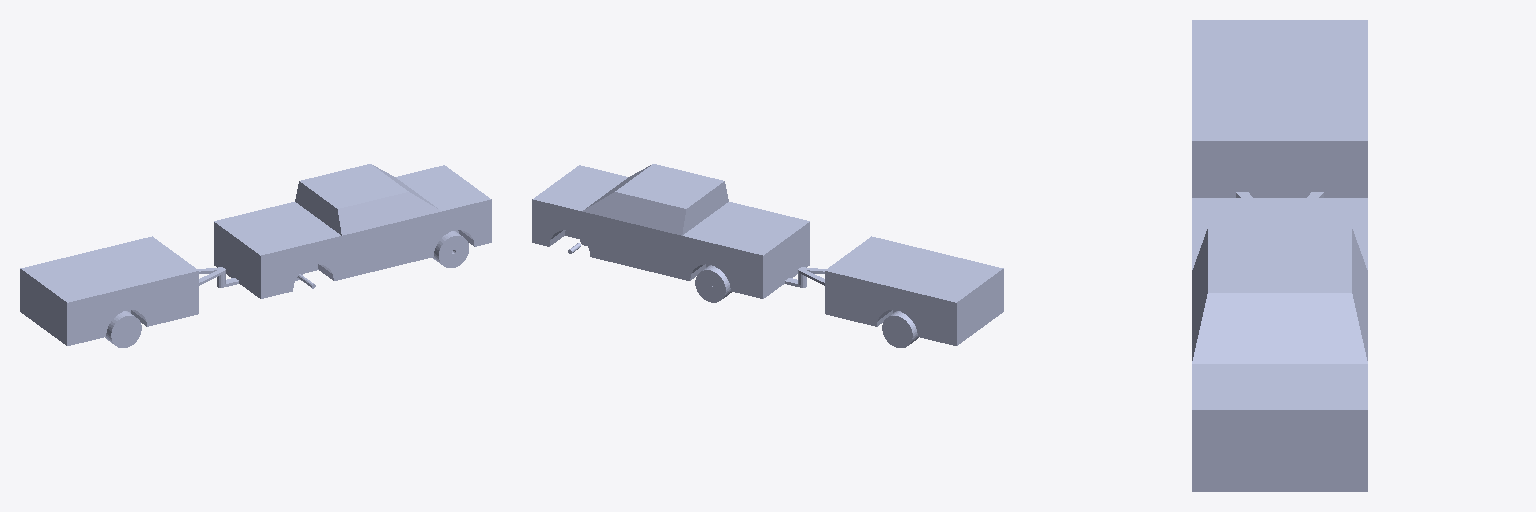
robot.urdf — trailer_description:
<?xml version="1.0" encoding="utf-8"?>
<!-- This URDF was automatically created by SolidWorks to URDF Exporter! Originally created by [author] ([email redacted]) 
     Commit Version: 1.6.0-4-g7f85cfe  Build Version: 1.6.7995.38578
     For more information, please see http://wiki.ros.org/sw_urdf_exporter -->
<robot
  name="trailer_description">
  <link
    name="base_link">
    <inertial>
      <origin
        xyz="0.0151794504413043 -2.6956551943736E-16 0.504333281484515"
        rpy="0 0 0" />
      <mass
        value="5623.96238078164" />
      <inertia
        ixx="1505.2735842584"
        ixy="3.10657795280898E-14"
        ixz="-96.1203292275202"
        iyy="7932.64531285603"
        iyz="-3.10015617296073E-14"
        izz="8447.43080900142" />
    </inertial>
    <visual>
      <origin
        xyz="0 0 0"
        rpy="0 0 0" />
      <geometry>
        <mesh
          filename="package://trailer_description/meshes/base_link.STL" />
      </geometry>
      <material
        name="">
        <color
          rgba="0.792156862745098 0.819607843137255 0.933333333333333 1" />
      </material>
    </visual>
    <collision>
      <origin
        xyz="0 0 0"
        rpy="0 0 0" />
      <geometry>
        <mesh
          filename="package://trailer_description/meshes/base_link.STL" />
      </geometry>
    </collision>
  </link>
  <link
    name="steer_left">
    <inertial>
      <origin
        xyz="0 0 1.11022302462516E-16"
        rpy="0 0 0" />
      <mass
        value="1.48283173249438" />
      <inertia
        ixx="0.0113467519863581"
        ixy="4.92526541296846E-36"
        ixz="0"
        iyy="0.00118626538599551"
        iyz="4.00998451212503E-35"
        izz="0.0113467519863581" />
    </inertial>
    <visual>
      <origin
        xyz="0 0 0"
        rpy="0 0 0" />
      <geometry>
        <mesh
          filename="package://trailer_description/meshes/steer_left.STL" />
      </geometry>
      <material
        name="">
        <color
          rgba="0.792156862745098 0.819607843137255 0.933333333333333 1" />
      </material>
    </visual>
    <collision>
      <origin
        xyz="0 0 0"
        rpy="0 0 0" />
      <geometry>
        <mesh
          filename="package://trailer_description/meshes/steer_left.STL" />
      </geometry>
    </collision>
  </link>
  <joint
    name="steer_left_joint"
    type="revolute">
    <origin
      xyz="1.46 0.6125 0"
      rpy="0 0 0" />
    <parent
      link="base_link" />
    <child
      link="steer_left" />
    <axis
      xyz="0 0 -1" />
    <limit
      lower="-0.6"
      upper="0.6"
      effort="50"
      velocity="31.4" />
  </joint>
  <link
    name="front_left_wheel">
    <inertial>
      <origin
        xyz="0 0 -1.11022302462516E-16"
        rpy="0 0 0" />
      <mass
        value="74.1907633489725" />
      <inertia
        ixx="2.08218966287404"
        ixy="6.07695317678125E-17"
        ixz="-3.14934790723029E-18"
        iyy="3.08830412900736"
        iyz="3.93136225252298E-18"
        izz="2.08218966287404" />
    </inertial>
    <visual>
      <origin
        xyz="0 0 0"
        rpy="0 0 0" />
      <geometry>
        <mesh
          filename="package://trailer_description/meshes/front_left_wheel.STL" />
      </geometry>
      <material
        name="">
        <color
          rgba="0.792156862745098 0.819607843137255 0.933333333333333 1" />
      </material>
    </visual>
    <collision>
      <origin
        xyz="0 0 0"
        rpy="0 0 0" />
      <geometry>
        <mesh
          filename="package://trailer_description/meshes/front_left_wheel.STL" />
      </geometry>
    </collision>
  </link>
  <joint
    name="front_left_wheel_joint"
    type="continuous">
    <origin
      xyz="0 0 0"
      rpy="0 0 0" />
    <parent
      link="steer_left" />
    <child
      link="front_left_wheel" />
    <axis
      xyz="0 1 0" />
    <limit
      lower="0"
      upper="0"
      effort="100"
      velocity="31.4" />
  </joint>
  <link
    name="steer_right">
    <inertial>
      <origin
        xyz="0 0 1.11022302462516E-16"
        rpy="0 0 0" />
      <mass
        value="1.48283173249438" />
      <inertia
        ixx="0.0113467519863581"
        ixy="4.92526541296846E-36"
        ixz="0"
        iyy="0.00118626538599551"
        iyz="4.00998451212503E-35"
        izz="0.0113467519863581" />
    </inertial>
    <visual>
      <origin
        xyz="0 0 0"
        rpy="0 0 0" />
      <geometry>
        <mesh
          filename="package://trailer_description/meshes/steer_right.STL" />
      </geometry>
      <material
        name="">
        <color
          rgba="0.792156862745098 0.819607843137255 0.933333333333333 1" />
      </material>
    </visual>
    <collision>
      <origin
        xyz="0 0 0"
        rpy="0 0 0" />
      <geometry>
        <mesh
          filename="package://trailer_description/meshes/steer_right.STL" />
      </geometry>
    </collision>
  </link>
  <joint
    name="steer_right_joint"
    type="revolute">
    <origin
      xyz="1.46 -0.6125 0"
      rpy="0 0 0" />
    <parent
      link="base_link" />
    <child
      link="steer_right" />
    <axis
      xyz="0 0 1" />
    <limit
      lower="-0.6"
      upper="0.6"
      effort="50"
      velocity="31.4" />
  </joint>
  <link
    name="front_right_wheel">
    <inertial>
      <origin
        xyz="0 0 -1.11022302462516E-16"
        rpy="0 0 0" />
      <mass
        value="74.1907633489725" />
      <inertia
        ixx="2.08218966287404"
        ixy="6.07695317678125E-17"
        ixz="1.7142491014549E-17"
        iyy="3.08830412900736"
        iyz="1.83241460922682E-18"
        izz="2.08218966287404" />
    </inertial>
    <visual>
      <origin
        xyz="0 0 0"
        rpy="0 0 0" />
      <geometry>
        <mesh
          filename="package://trailer_description/meshes/front_right_wheel.STL" />
      </geometry>
      <material
        name="">
        <color
          rgba="0.792156862745098 0.819607843137255 0.933333333333333 1" />
      </material>
    </visual>
    <collision>
      <origin
        xyz="0 0 0"
        rpy="0 0 0" />
      <geometry>
        <mesh
          filename="package://trailer_description/meshes/front_right_wheel.STL" />
      </geometry>
    </collision>
  </link>
  <joint
    name="front_right_wheel_joint"
    type="continuous">
    <origin
      xyz="0 0 0"
      rpy="0 0 0" />
    <parent
      link="steer_right" />
    <child
      link="front_right_wheel" />
    <axis
      xyz="0 1 0" />
    <limit
      lower="0"
      upper="0"
      effort="100"
      velocity="31.4" />
  </joint>
  <link
    name="rear_left_wheel">
    <inertial>
      <origin
        xyz="0 -1.11022302462516E-16 0"
        rpy="0 0 0" />
      <mass
        value="74.1907633489725" />
      <inertia
        ixx="2.08218966287404"
        ixy="-3.48598814788576E-15"
        ixz="9.86076131526265E-32"
        iyy="3.08830412900736"
        iyz="-1.23785934175428E-30"
        izz="2.08218966287404" />
    </inertial>
    <visual>
      <origin
        xyz="0 0 0"
        rpy="0 0 0" />
      <geometry>
        <mesh
          filename="package://trailer_description/meshes/rear_left_wheel.STL" />
      </geometry>
      <material
        name="">
        <color
          rgba="0.792156862745098 0.819607843137255 0.933333333333333 1" />
      </material>
    </visual>
    <collision>
      <origin
        xyz="0 0 0"
        rpy="0 0 0" />
      <geometry>
        <mesh
          filename="package://trailer_description/meshes/rear_left_wheel.STL" />
      </geometry>
    </collision>
  </link>
  <joint
    name="rear_left_wheel_joint"
    type="continuous">
    <origin
      xyz="-1.17000000000001 0.612499999999998 0"
      rpy="0 0 0" />
    <parent
      link="base_link" />
    <child
      link="rear_left_wheel" />
    <axis
      xyz="0 1 0" />
    <limit
      lower="0"
      upper="0"
      effort="100"
      velocity="31.4" />
  </joint>
  <link
    name="rear_right_wheel">
    <inertial>
      <origin
        xyz="0 1.11022302462516E-16 0"
        rpy="0 0 0" />
      <mass
        value="74.1907633489725" />
      <inertia
        ixx="2.08218966287404"
        ixy="3.48598814788576E-15"
        ixz="9.86076131526265E-32"
        iyy="3.08830412900736"
        iyz="1.22529057414273E-30"
        izz="2.08218966287404" />
    </inertial>
    <visual>
      <origin
        xyz="0 0 0"
        rpy="0 0 0" />
      <geometry>
        <mesh
          filename="package://trailer_description/meshes/rear_right_wheel.STL" />
      </geometry>
      <material
        name="">
        <color
          rgba="0.792156862745098 0.819607843137255 0.933333333333333 1" />
      </material>
    </visual>
    <collision>
      <origin
        xyz="0 0 0"
        rpy="0 0 0" />
      <geometry>
        <mesh
          filename="package://trailer_description/meshes/rear_right_wheel.STL" />
      </geometry>
    </collision>
  </link>
  <joint
    name="rear_right_wheel_joint"
    type="continuous">
    <origin
      xyz="-1.17000000000001 -0.612499999999998 0"
      rpy="0 0 0" />
    <parent
      link="base_link" />
    <child
      link="rear_right_wheel" />
    <axis
      xyz="0 1 0" />
    <limit
      lower="0"
      upper="0"
      effort="100"
      velocity="31.4" />
  </joint>
  <link
    name="trailer">
    <inertial>
      <origin
        xyz="-2.06473943000057 -1.88968614925875E-16 0.256889099220807"
        rpy="0 0 0" />
      <mass
        value="2715.11151397176" />
      <inertia
        ixx="634.919956534306"
        ixy="7.61521195844811E-14"
        ixz="9.2945345694552"
        iyy="1640.30654615616"
        iyz="-6.09857971861188E-15"
        izz="2004.11171155847" />
    </inertial>
    <visual>
      <origin
        xyz="0 0 0"
        rpy="0 0 0" />
      <geometry>
        <mesh
          filename="package://trailer_description/meshes/trailer.STL" />
      </geometry>
      <material
        name="">
        <color
          rgba="0.792156862745098 0.819607843137255 0.933333333333333 1" />
      </material>
    </visual>
    <collision>
      <origin
        xyz="0 0 0"
        rpy="0 0 0" />
      <geometry>
        <mesh
          filename="package://trailer_description/meshes/trailer.STL" />
      </geometry>
    </collision>
  </link>
  <joint
    name="trailer_joint"
    type="revolute">
    <origin
      xyz="-2.46 0 0.15"
      rpy="0 0 0" />
    <parent
      link="base_link" />
    <child
      link="trailer" />
    <axis
      xyz="0 0 -1" />
    <limit
      lower="-1"
      upper="1"
      effort="200"
      velocity="0.5" />
  </joint>
  <link
    name="t_left_wheel">
    <inertial>
      <origin
        xyz="0 0 1.11022302462516E-16"
        rpy="0 0 0" />
      <mass
        value="74.1907633489725" />
      <inertia
        ixx="2.08218966287404"
        ixy="8.52829769795647E-18"
        ixz="-1.98584756901403E-17"
        iyy="3.08830412900736"
        iyz="7.03176605089594E-18"
        izz="2.08218966287404" />
    </inertial>
    <visual>
      <origin
        xyz="0 0 0"
        rpy="0 0 0" />
      <geometry>
        <mesh
          filename="package://trailer_description/meshes/t_left_wheel.STL" />
      </geometry>
      <material
        name="">
        <color
          rgba="0.792156862745098 0.819607843137255 0.933333333333333 1" />
      </material>
    </visual>
    <collision>
      <origin
        xyz="0 0 0"
        rpy="0 0 0" />
      <geometry>
        <mesh
          filename="package://trailer_description/meshes/t_left_wheel.STL" />
      </geometry>
    </collision>
  </link>
  <joint
    name="t_left_wheel_joint"
    type="continuous">
    <origin
      xyz="-2.20864 0.6125 -0.15"
      rpy="0 0 0" />
    <parent
      link="trailer" />
    <child
      link="t_left_wheel" />
    <axis
      xyz="-0.0225880418212614 -0.999744857634527 0" />
    <limit
      lower="0"
      upper="0"
      effort="100"
      velocity="31.4" />
  </joint>
  <link
    name="t_right_wheel">
    <inertial>
      <origin
        xyz="0 0 0"
        rpy="0 0 0" />
      <mass
        value="74.1907633489725" />
      <inertia
        ixx="2.08218966287404"
        ixy="-6.33759727710489E-18"
        ixz="2.13017845392221E-16"
        iyy="3.08830412900736"
        iyz="-6.070436904292E-18"
        izz="2.08218966287404" />
    </inertial>
    <visual>
      <origin
        xyz="0 0 0"
        rpy="0 0 0" />
      <geometry>
        <mesh
          filename="package://trailer_description/meshes/t_right_wheel.STL" />
      </geometry>
      <material
        name="">
        <color
          rgba="0.792156862745098 0.819607843137255 0.933333333333333 1" />
      </material>
    </visual>
    <collision>
      <origin
        xyz="0 0 0"
        rpy="0 0 0" />
      <geometry>
        <mesh
          filename="package://trailer_description/meshes/t_right_wheel.STL" />
      </geometry>
    </collision>
  </link>
  <joint
    name="t_right_wheel_joint"
    type="continuous">
    <origin
      xyz="-2.20864 -0.6125 -0.15"
      rpy="0 0 0" />
    <parent
      link="trailer" />
    <child
      link="t_right_wheel" />
    <axis
      xyz="-0.0225880418212613 -0.999744857634527 0" />
    <limit
      lower="0"
      upper="0"
      effort="100"
      velocity="31.4" />
  </joint>
  <link
    name="Left_ArUco_marker">
    <inertial>
      <origin
        xyz="0 0 0"
        rpy="0 0 0" />
      <mass
        value="0.00250000000000084" />
      <inertia
        ixx="1.04166666666702E-06"
        ixy="1.29701920048421E-24"
        ixz="8.16151537710328E-26"
        iyy="5.21041666666841E-07"
        iyz="-2.03287907341201E-23"
        izz="5.21041666666842E-07" />
    </inertial>
    <visual>
      <origin
        xyz="0 0 0"
        rpy="0 0 0" />
      <geometry>
        <mesh
          filename="package://trailer_description/meshes/Left_ArUco_marker.STL" />
      </geometry>
      <material
        name="">
        <color
          rgba="0.792156862745098 0.819607843137255 0.933333333333333 1" />
      </material>
    </visual>
    <collision>
      <origin
        xyz="0 0 0"
        rpy="0 0 0" />
      <geometry>
        <mesh
          filename="package://trailer_description/meshes/Left_ArUco_marker.STL" />
      </geometry>
    </collision>
  </link>
  <joint
    name="Left_ArUco_joint"
    type="fixed">
    <origin
      xyz="-0.84864 0.69 0.55991"
      rpy="0 0 0" />
    <parent
      link="trailer" />
    <child
      link="Left_ArUco_marker" />
    <axis
      xyz="0 0 0" />
  </joint>
  <link
    name="Right_ArUco_marker">
    <inertial>
      <origin
        xyz="0 0 0"
        rpy="0 0 0" />
      <mass
        value="0.00250000000000084" />
      <inertia
        ixx="1.04166666666702E-06"
        ixy="1.29701920048421E-24"
        ixz="8.16151537710327E-26"
        iyy="5.21041666666841E-07"
        iyz="-2.03287907341201E-23"
        izz="5.21041666666842E-07" />
    </inertial>
    <visual>
      <origin
        xyz="0 0 0"
        rpy="0 0 0" />
      <geometry>
        <mesh
          filename="package://trailer_description/meshes/Right_ArUco_marker.STL" />
      </geometry>
      <material
        name="">
        <color
          rgba="0.792156862745098 0.819607843137255 0.933333333333333 1" />
      </material>
    </visual>
    <collision>
      <origin
        xyz="0 0 0"
        rpy="0 0 0" />
      <geometry>
        <mesh
          filename="package://trailer_description/meshes/Right_ArUco_marker.STL" />
      </geometry>
    </collision>
  </link>
  <joint
    name="Right_ArUco_joint"
    type="fixed">
    <origin
      xyz="-0.84864 -0.69 0.55991"
      rpy="0 0 0" />
    <parent
      link="trailer" />
    <child
      link="Right_ArUco_marker" />
    <axis
      xyz="0 0 0" />
  </joint>
  <link
    name="u1_Link">
    <inertial>
      <origin
        xyz="2.22044604925031E-16 0 0"
        rpy="0 0 0" />
      <mass
        value="0.00176714586764422" />
      <inertia
        ixx="4.97009775274937E-08"
        ixy="6.44944990373328E-23"
        ixz="-1.28060738442034E-40"
        iyy="3.95767043274481E-08"
        iyz="9.95682444457783E-55"
        izz="3.95767043274481E-08" />
    </inertial>
    <visual>
      <origin
        xyz="0 0 0"
        rpy="0 0 0" />
      <geometry>
        <mesh
          filename="package://trailer_description/meshes/u1_Link.STL" />
      </geometry>
      <material
        name="">
        <color
          rgba="0.792156862745098 0.819607843137255 0.933333333333333 1" />
      </material>
    </visual>
    <collision>
      <origin
        xyz="0 0 0"
        rpy="0 0 0" />
      <geometry>
        <mesh
          filename="package://trailer_description/meshes/u1_Link.STL" />
      </geometry>
    </collision>
  </link>
  <joint
    name="u1_joint"
    type="fixed">
    <origin
      xyz="-2.16 0.6125 0.05"
      rpy="0 0 3.1416" />
    <parent
      link="base_link" />
    <child
      link="u1_Link" />
    <axis
      xyz="0 0 0" />
  </joint>
  <link
    name="u2_Link">
    <inertial>
      <origin
        xyz="4.44089209850063E-16 0 0"
        rpy="0 0 0" />
      <mass
        value="0.00176714586764422" />
      <inertia
        ixx="4.97009775274937E-08"
        ixy="-6.61984950467753E-23"
        ixz="6.44944990373324E-23"
        iyy="3.95767043274481E-08"
        iyz="-1.03497225198971E-37"
        izz="3.95767043274481E-08" />
    </inertial>
    <visual>
      <origin
        xyz="0 0 0"
        rpy="0 0 0" />
      <geometry>
        <mesh
          filename="package://trailer_description/meshes/u2_Link.STL" />
      </geometry>
      <material
        name="">
        <color
          rgba="0.792156862745098 0.819607843137255 0.933333333333333 1" />
      </material>
    </visual>
    <collision>
      <origin
        xyz="0 0 0"
        rpy="0 0 0" />
      <geometry>
        <mesh
          filename="package://trailer_description/meshes/u2_Link.STL" />
      </geometry>
    </collision>
  </link>
  <joint
    name="u2_joint"
    type="fixed">
    <origin
      xyz="-2.16 0.26 0.05"
      rpy="0 0 3.1416" />
    <parent
      link="base_link" />
    <child
      link="u2_Link" />
    <axis
      xyz="0 0 0" />
  </joint>
  <link
    name="u3_Link">
    <inertial>
      <origin
        xyz="2.22044604925031E-16 0 0"
        rpy="0 0 0" />
      <mass
        value="0.00176714586764422" />
      <inertia
        ixx="4.97009775274937E-08"
        ixy="-6.61984950467753E-23"
        ixz="6.44944990373324E-23"
        iyy="3.95767043274481E-08"
        iyz="-1.03497225198971E-37"
        izz="3.95767043274481E-08" />
    </inertial>
    <visual>
      <origin
        xyz="0 0 0"
        rpy="0 0 0" />
      <geometry>
        <mesh
          filename="package://trailer_description/meshes/u3_Link.STL" />
      </geometry>
      <material
        name="">
        <color
          rgba="0.792156862745098 0.819607843137255 0.933333333333333 1" />
      </material>
    </visual>
    <collision>
      <origin
        xyz="0 0 0"
        rpy="0 0 0" />
      <geometry>
        <mesh
          filename="package://trailer_description/meshes/u3_Link.STL" />
      </geometry>
    </collision>
  </link>
  <joint
    name="u3_joint"
    type="fixed">
    <origin
      xyz="-2.16 -0.26 0.05"
      rpy="0 0 3.1416" />
    <parent
      link="base_link" />
    <child
      link="u3_Link" />
    <axis
      xyz="0 0 0" />
  </joint>
  <link
    name="u4_Link">
    <inertial>
      <origin
        xyz="2.22044604925031E-16 0 0"
        rpy="0 0 0" />
      <mass
        value="0.00176714586764422" />
      <inertia
        ixx="4.97009775274937E-08"
        ixy="6.61984950467755E-23"
        ixz="-2.20581496680827E-24"
        iyy="3.95767043274481E-08"
        iyz="1.10592535436423E-38"
        izz="3.95767043274481E-08" />
    </inertial>
    <visual>
      <origin
        xyz="0 0 0"
        rpy="0 0 0" />
      <geometry>
        <mesh
          filename="package://trailer_description/meshes/u4_Link.STL" />
      </geometry>
      <material
        name="">
        <color
          rgba="0.792156862745098 0.819607843137255 0.933333333333333 1" />
      </material>
    </visual>
    <collision>
      <origin
        xyz="0 0 0"
        rpy="0 0 0" />
      <geometry>
        <mesh
          filename="package://trailer_description/meshes/u4_Link.STL" />
      </geometry>
    </collision>
  </link>
  <joint
    name="u4_joint"
    type="fixed">
    <origin
      xyz="-2.16 -0.6125 0.05"
      rpy="0 0 3.1416" />
    <parent
      link="base_link" />
    <child
      link="u4_Link" />
    <axis
      xyz="0 0 0" />
  </joint>
  <link
    name="depth_camera_link">
    <inertial>
      <origin
        xyz="-0.698188658539394 8.97578938885925E-17 0.0335521985627969"
        rpy="0 0 0" />
      <mass
        value="8787.20820689569" />
      <inertia
        ixx="2433.19755884074"
        ixy="-1.08003666773882E-12"
        ixz="892.312824904581"
        iyy="50275.0652757728"
        iyz="-1.42105836646589E-14"
        izz="51203.3820021919" />
    </inertial>
    <visual>
      <origin
        xyz="0 0 0"
        rpy="0 0 0" />
      <geometry>
        <mesh
          filename="package://trailer_description/meshes/depth_camera_link.STL" />
      </geometry>
      <material
        name="">
        <color
          rgba="1 1 1 1" />
      </material>
    </visual>
    <collision>
      <origin
        xyz="0 0 0"
        rpy="0 0 0" />
      <geometry>
        <mesh
          filename="package://trailer_description/meshes/depth_camera_link.STL" />
      </geometry>
    </collision>
  </link>
  <joint
    name="depth_camera_joint"
    type="fixed">
    <origin
      xyz="-2.16 0 0.414953113963299"
      rpy="0 0 3.14159265358979" />
    <parent
      link="base_link" />
    <child
      link="depth_camera_link" />
    <axis
      xyz="0 0 0" />
  </joint>
</robot>

--- Render facts (derived) ---
Views: 3 orthographic renders of the robot side by side, from view 1: azimuth 30°, elevation 25°; view 2: azimuth 150°, elevation 25°; view 3: azimuth 270°, elevation 25°.
Model trailer_description with 17 links and 16 joints (3 revolute, 6 continuous, 7 fixed), rooted at base_link, posed all joints at 0.
Visible links, largest first — view 1: base_link, trailer, front_right_wheel, t_right_wheel; view 2: base_link, trailer, t_left_wheel, rear_left_wheel; view 3: base_link, trailer.
Link boxes in pixels (box(x1,y1,x2,y2)): base_link: box(214, 164, 491, 298); trailer: box(20, 236, 225, 345); front_right_wheel: box(432, 231, 468, 267); t_right_wheel: box(105, 311, 141, 347); base_link: box(532, 164, 809, 298); trailer: box(798, 236, 1003, 345); t_left_wheel: box(882, 311, 918, 347); rear_left_wheel: box(695, 265, 731, 302); base_link: box(1192, 198, 1367, 491); trailer: box(1192, 20, 1367, 197).
Size in the robot's own frame: 7.94 by 1.52 by 1.49 metres.
Meshes: 17 distinct files referenced, 13 mesh visuals loaded (13 binary STL); not drawn: 3 (reference not matched to a file when rendering), 1 (file found but could not be loaded).